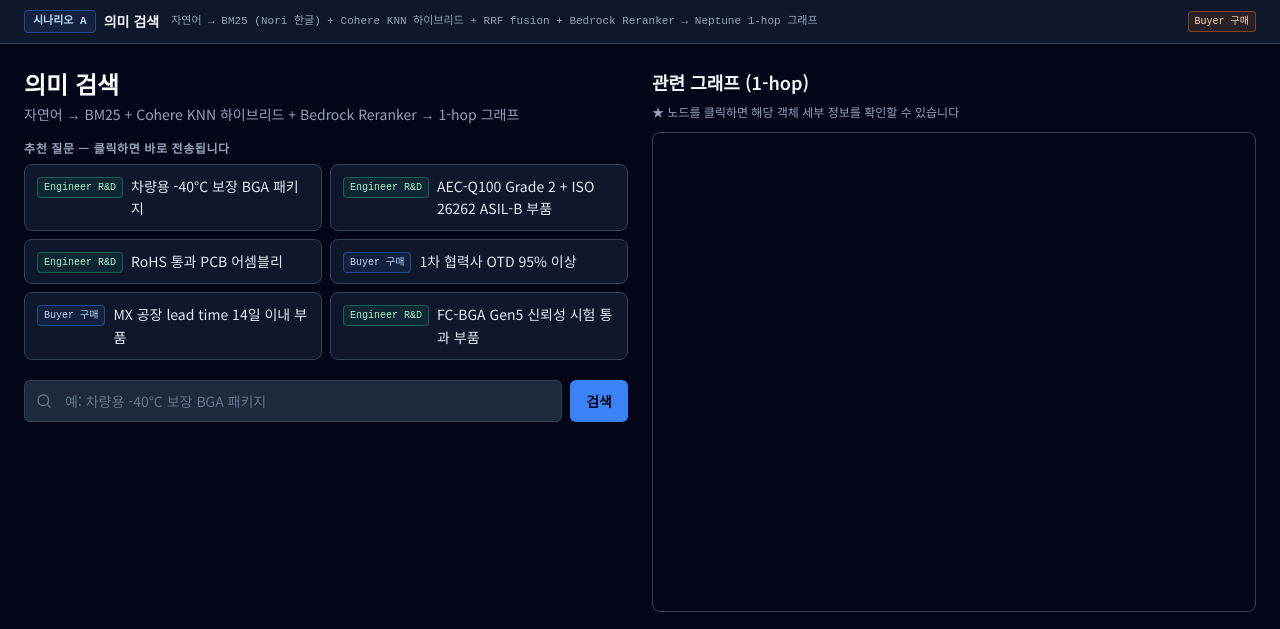
it: W4 — failed requests release the loading state and show an error › search
Type "BGA" into the field with placeholder "예: 차량용 -40°C 보장 BGA 패키지" at [293, 400], box [24, 380, 562, 422]
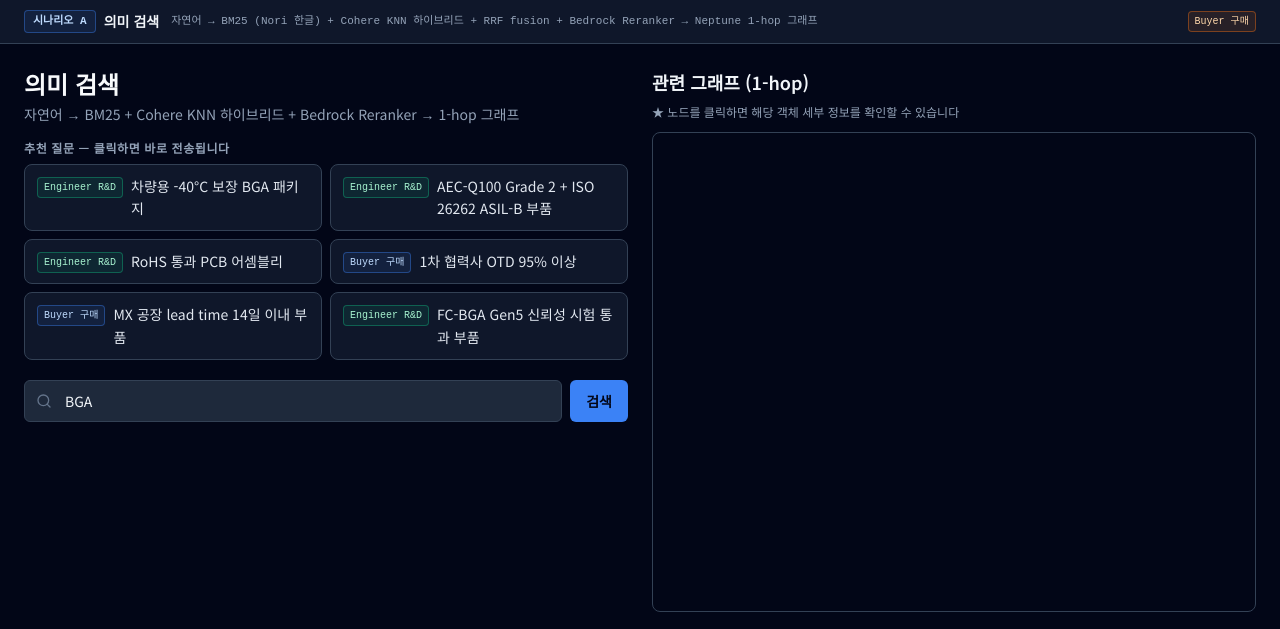
Click the button "검색" at [599, 400], box [570, 380, 628, 422]
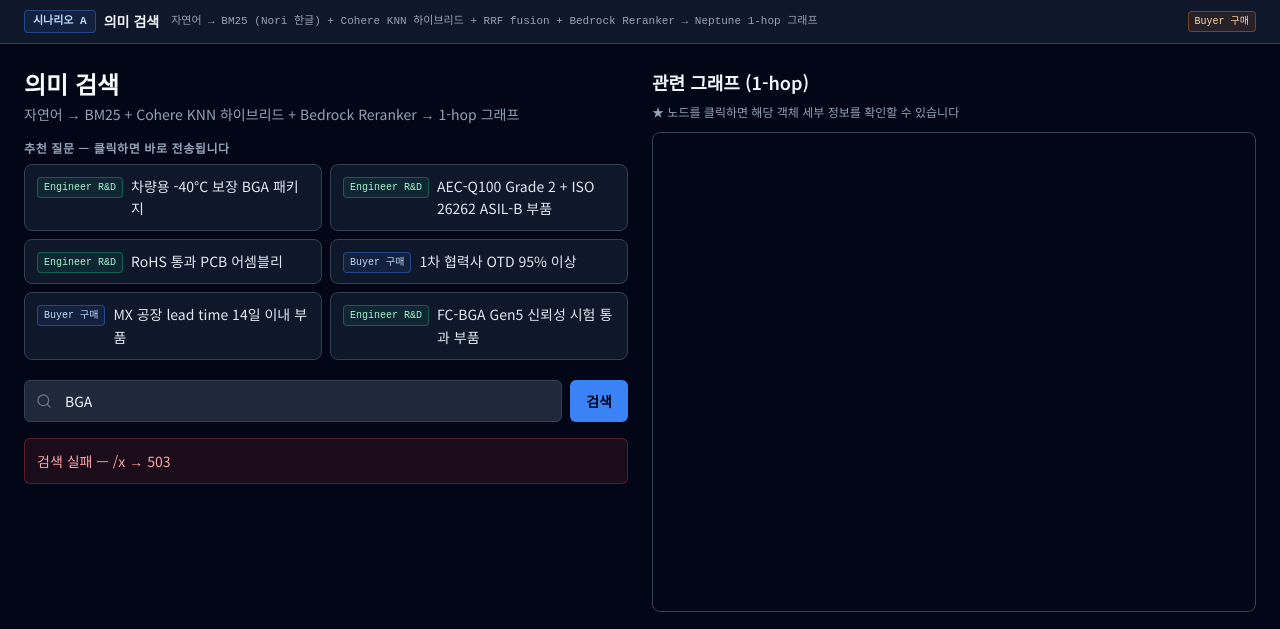
Now the message "검색 실패 — /x → 503" is shown, box [24, 438, 628, 484]
